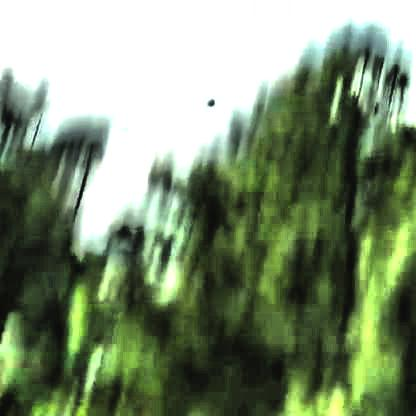golfball: (201, 94, 212, 104)
